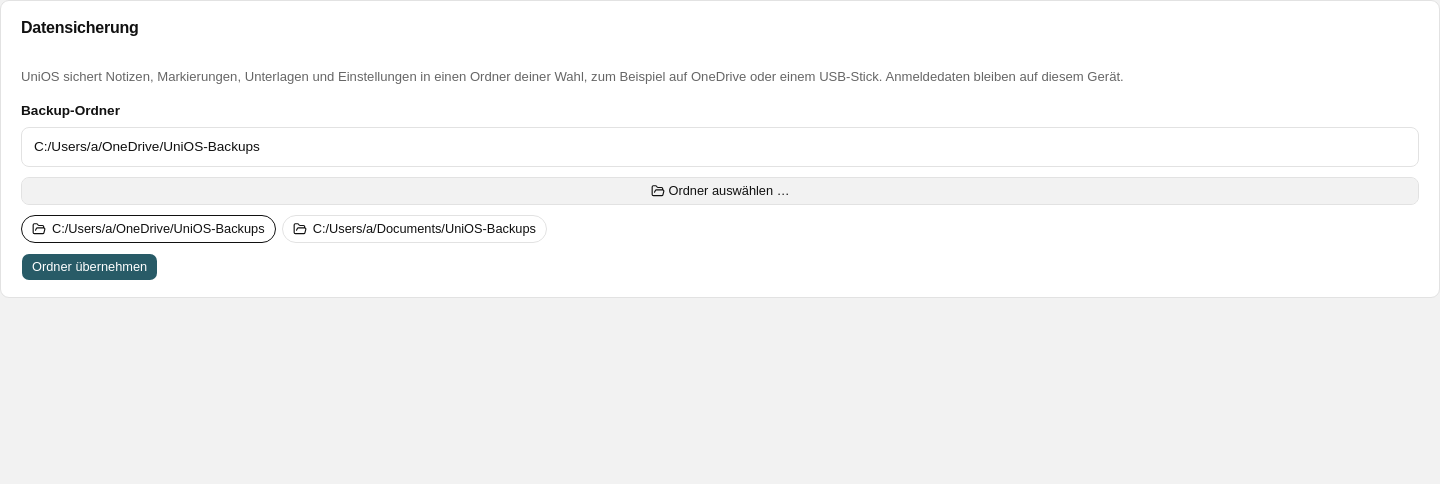
Test: offers likely folders and saves the chosen one
Check: the field labelled "Backup-Ordner" holds "C:/Users/a/OneDrive/UniOS-Backups", box [21,127,1419,167]
Click the button "C:/Users/a/Documents/UniOS-Backups": x=414, y=229 [282,215,547,243]
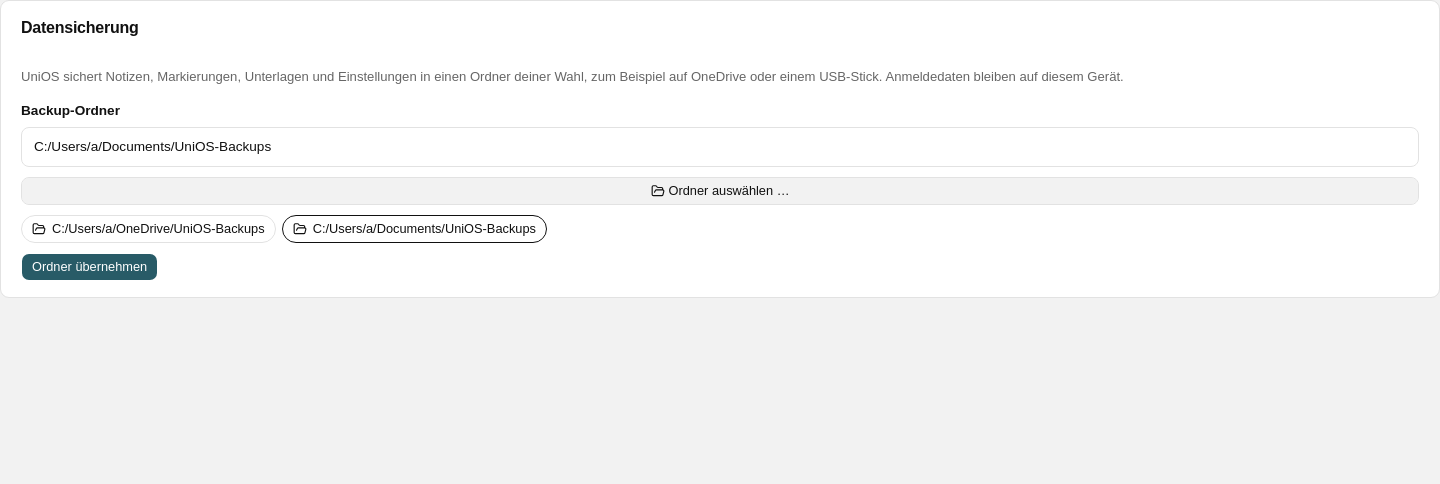
Check: the field labelled "Backup-Ordner" holds "C:/Users/a/Documents/UniOS-Backups", box [21,127,1419,167]
Click the button "Ordner übernehmen": x=90, y=267 [21,253,158,281]
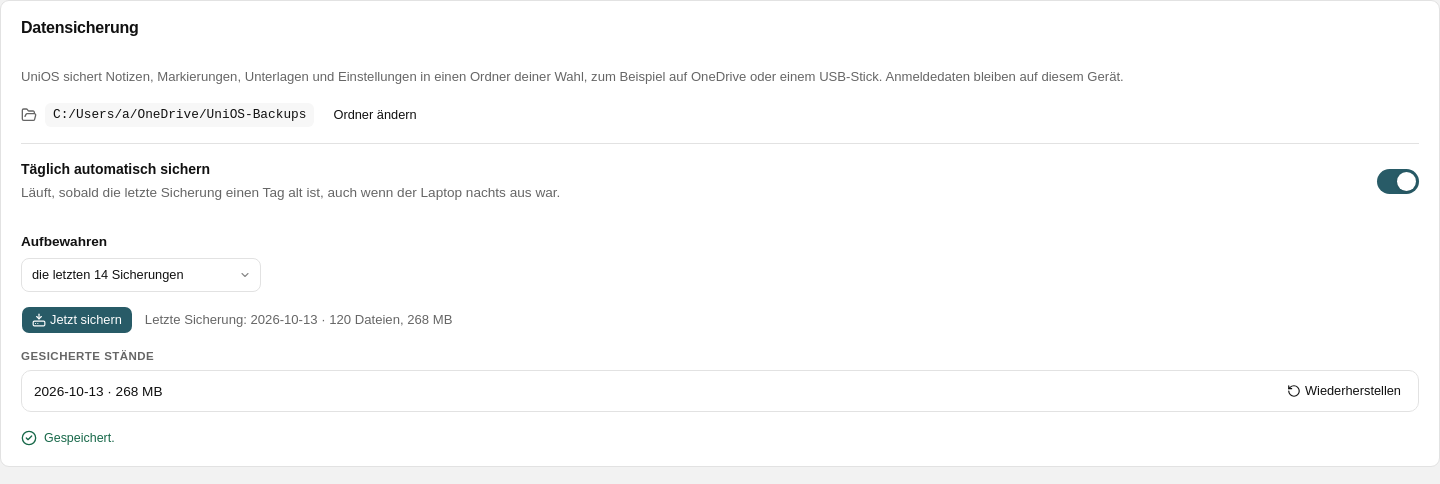
Check: the text "Letzte Sicherung: 2026-10-13 · 120 Dateien, 268 MB" is shown, box [145,310,452,330]
